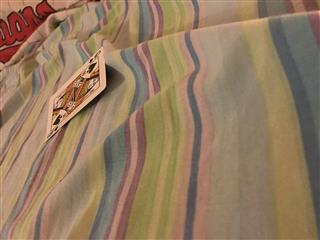QueenOfSpades: (43, 45, 106, 142)
